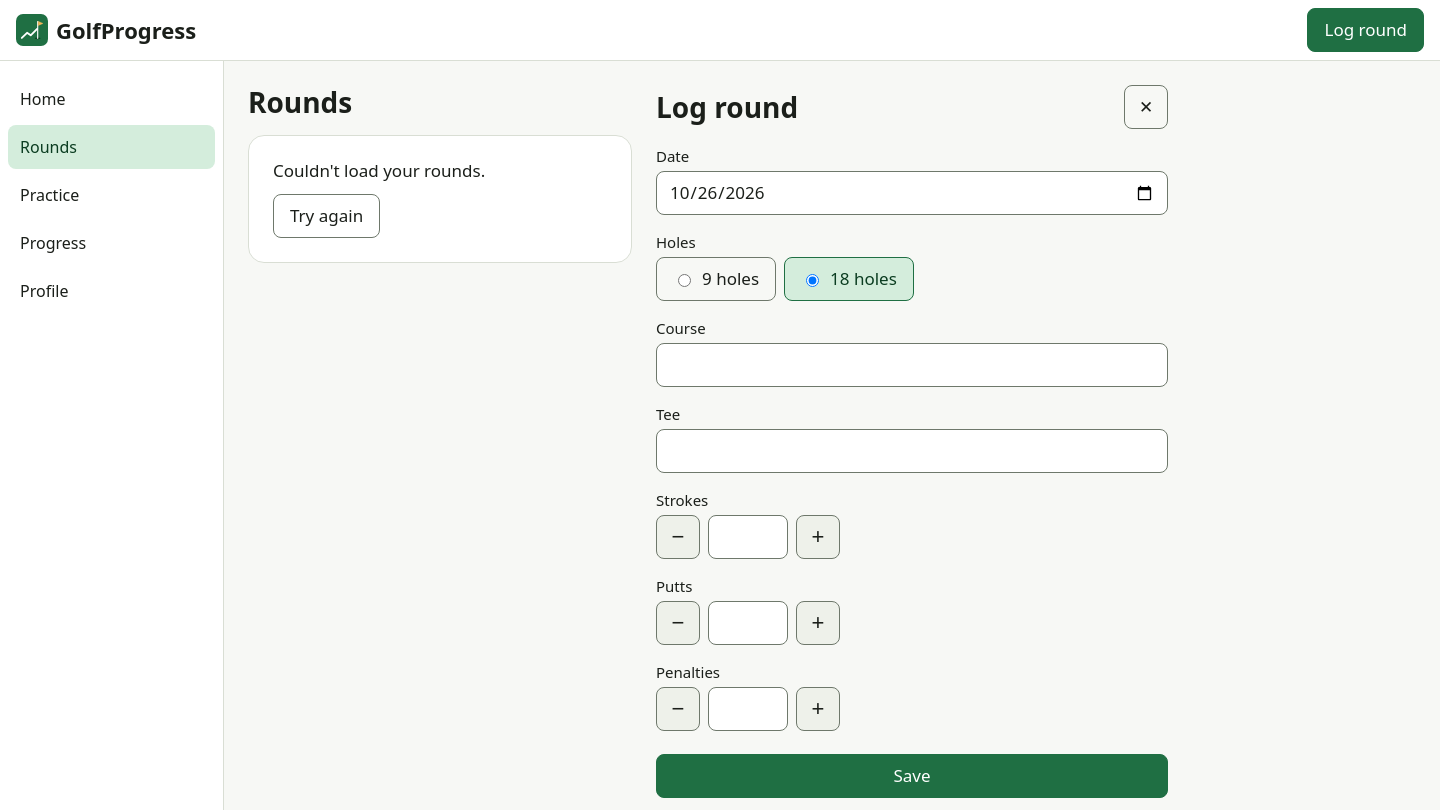
Test: Log round (#92) › shows the API's validation errors next to their fields
Type "88" into the field labelled "Strokes" at (748, 537), box [708, 515, 788, 559]
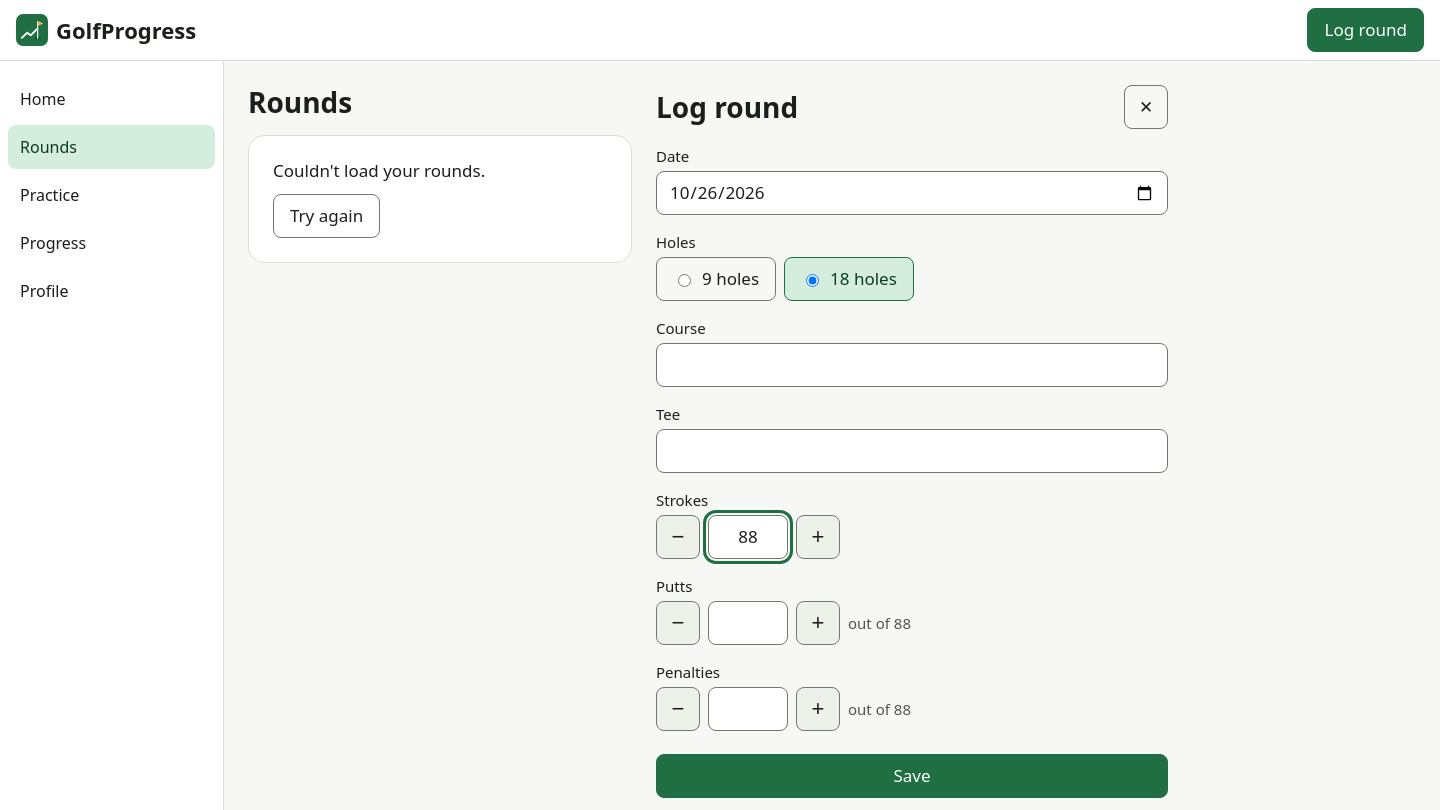
Click the button "Save" at (912, 776), box [656, 754, 1168, 798]
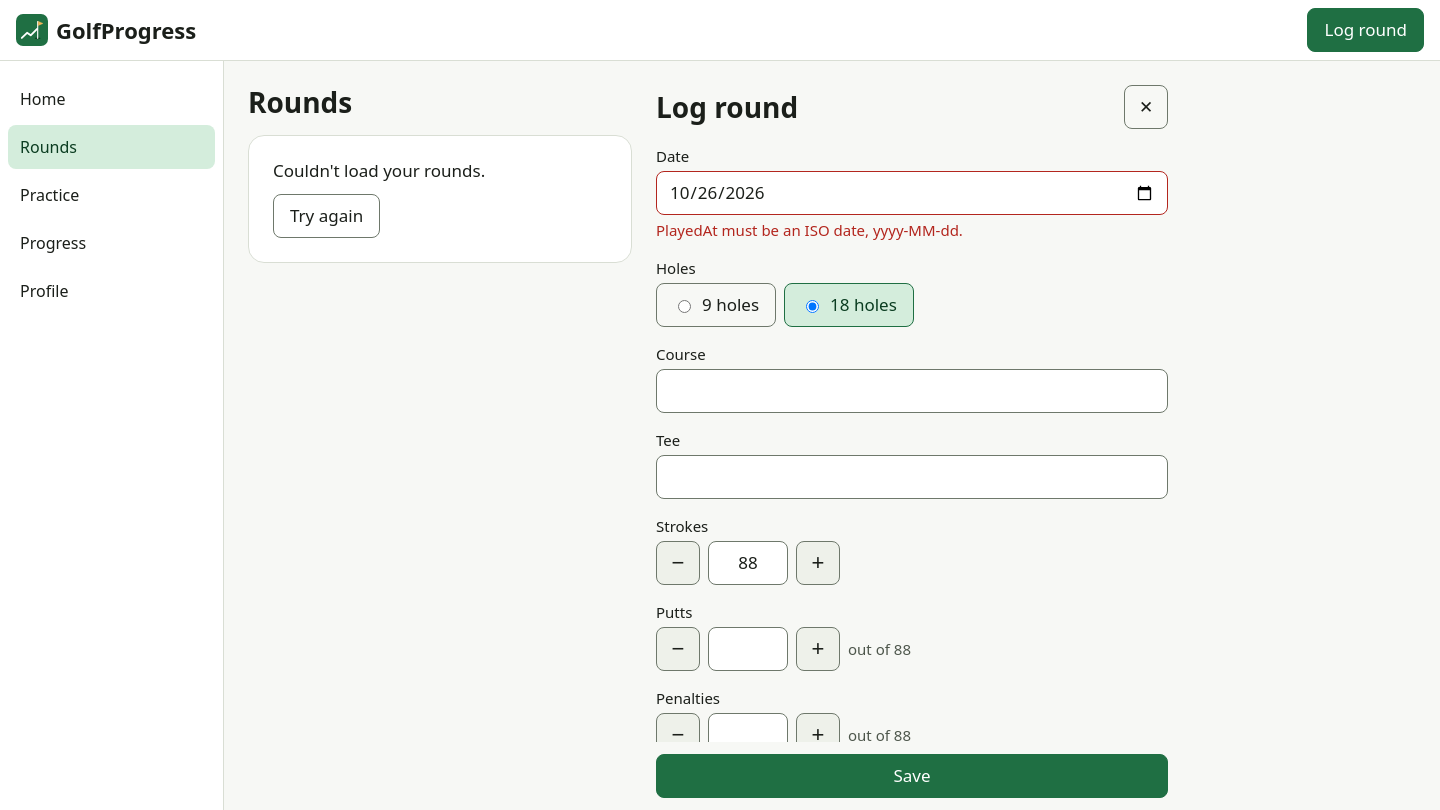
Expected: the text "PlayedAt must be an ISO date, yyyy-MM-dd." is shown, [656, 220, 963, 240]
